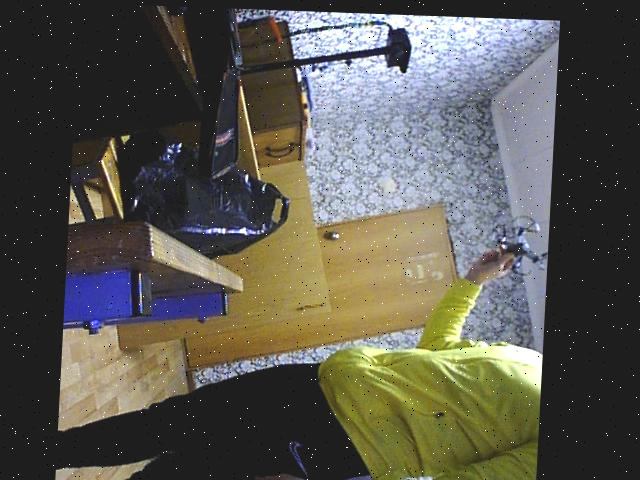drone: (487, 204, 552, 283)
